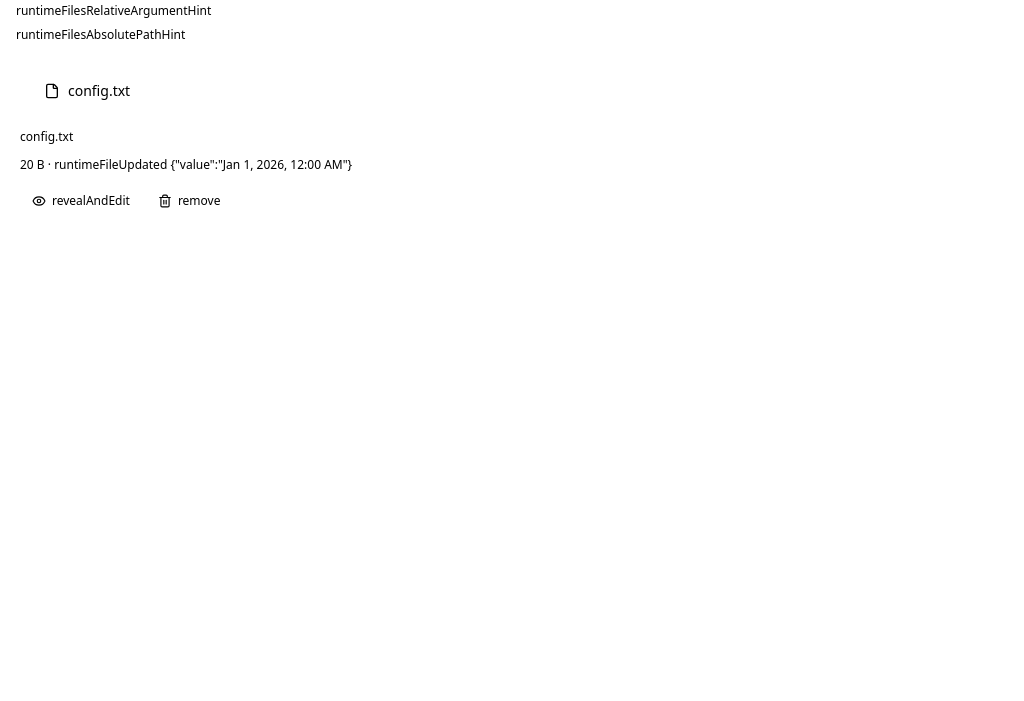
Test: deployment text file editor › keeps content private until reveal and sends only scoped edit data
Check: the field labelled "textContent" is not shown
Click the button "revealAndEdit".
click(81, 201)  # box [20,185,142,217]
(page scrolled)
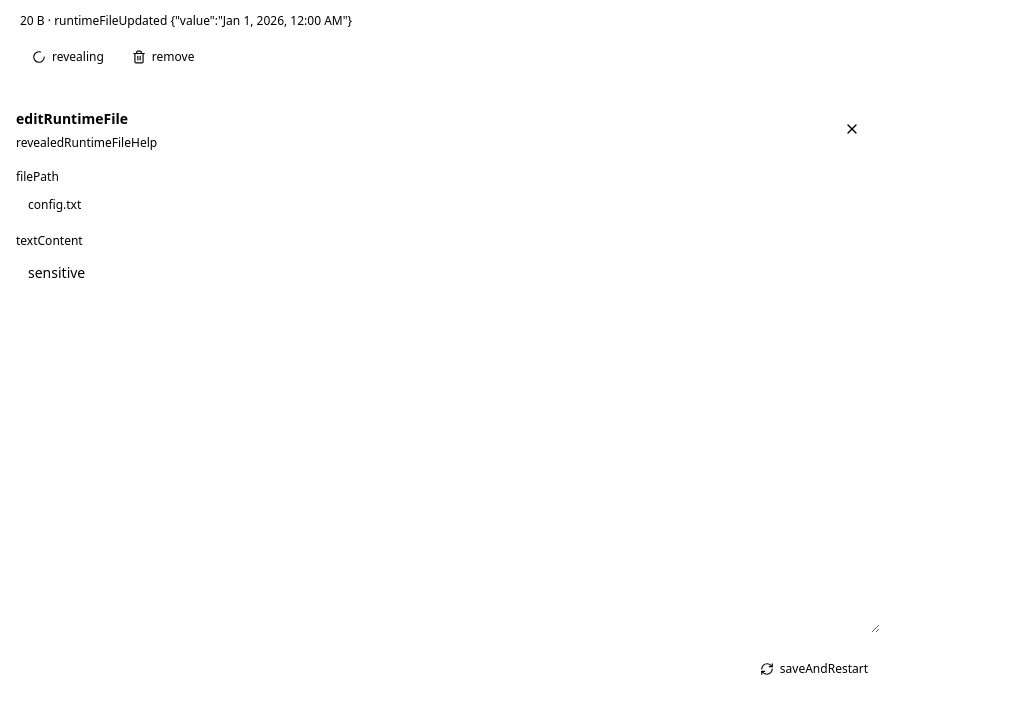
Check: the text box labelled "textContent" holds "sensitive"
Replace the text in the text box labelled "textContent" with "edited" at (448, 441), box [16,249,880,633]
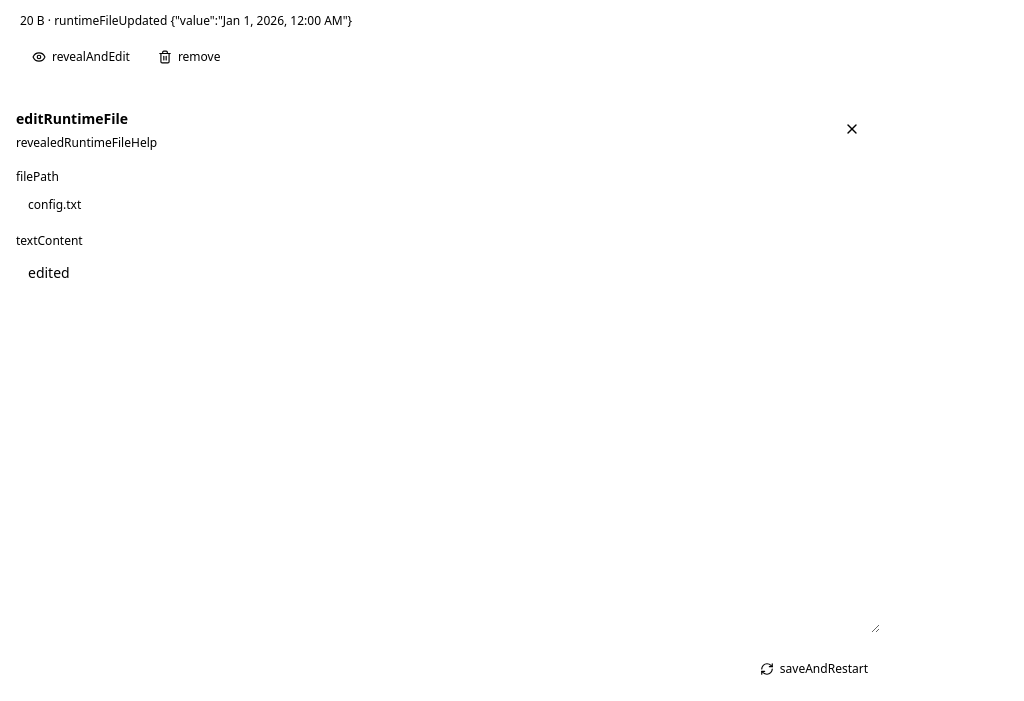
Submit the form named "saveAndRestart"
(page scrolled)
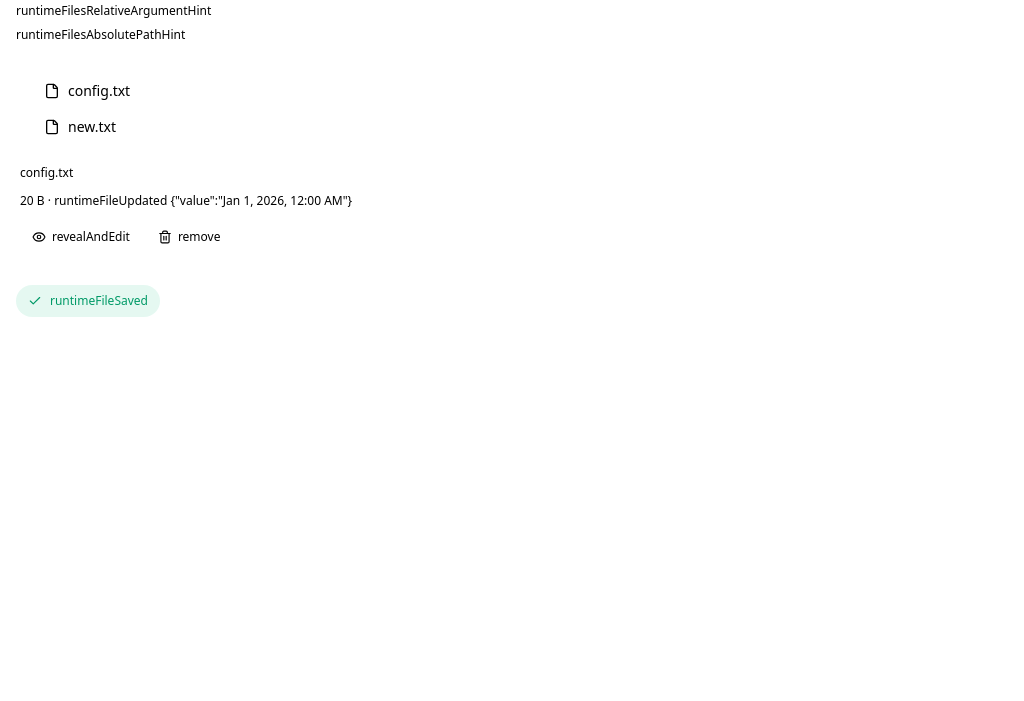
Check: the message reads "runtimeFileSaved", box [50,292,148,309]
